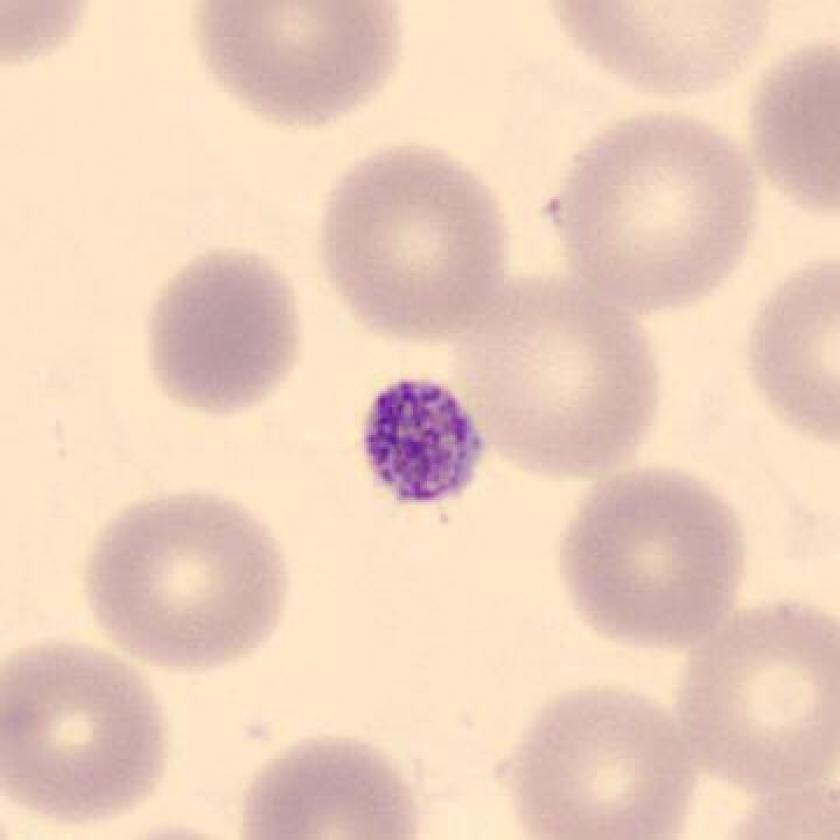platelets: (349, 364, 500, 529)
